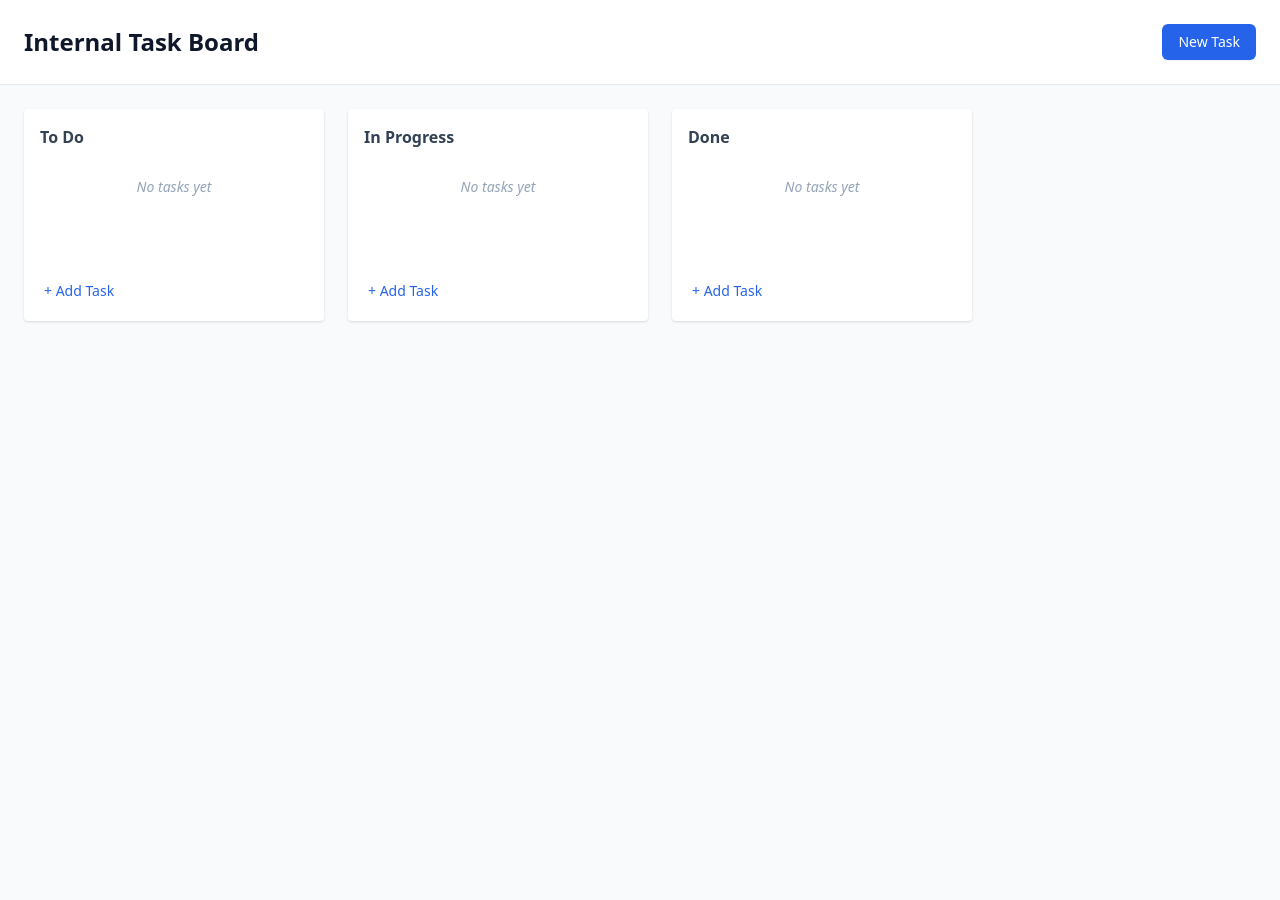
Test: App - task CRUD and keyboard shortcut › creates a new task and persists to localStorage
Click the button "New Task" at x=1209, y=42, box top-left (1162, 24), bottom-right (1256, 60)
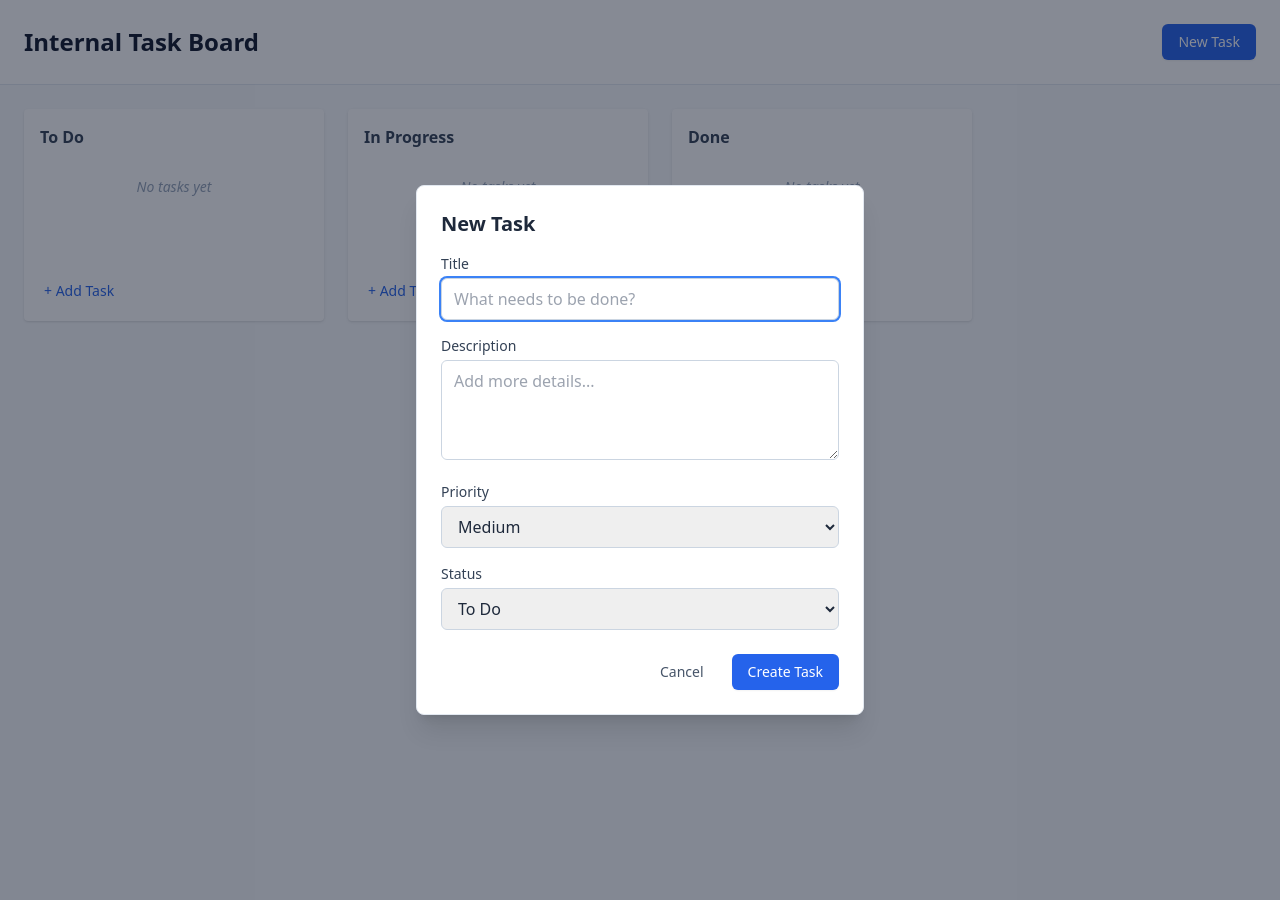
Type "Integration Test Task" into the field labelled "Title" at x=640, y=299, box top-left (441, 278), bottom-right (839, 320)
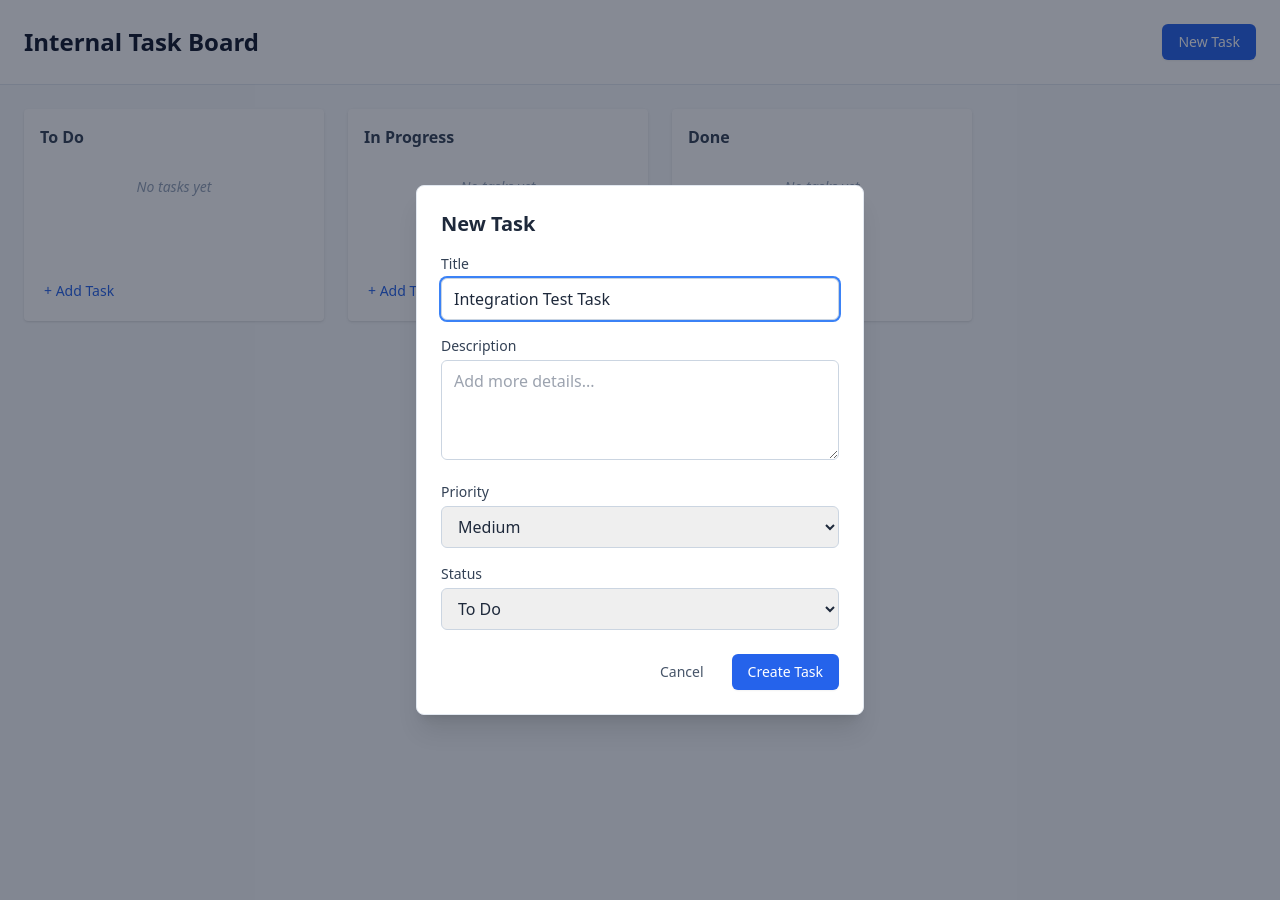
Type "Created by test" into the text box labelled "Description" at x=640, y=410, box top-left (441, 360), bottom-right (839, 460)
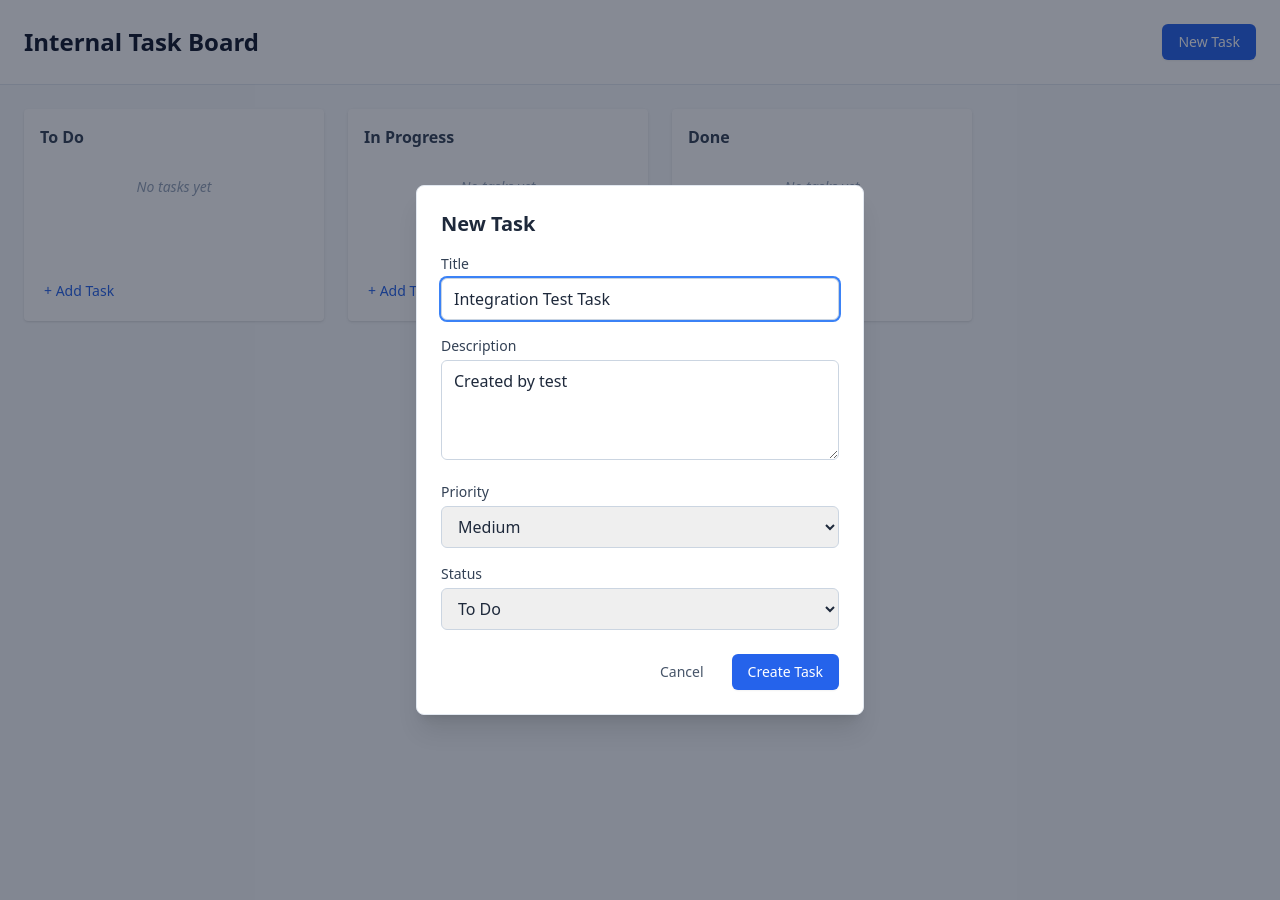
Click the button "Create Task" at x=785, y=672, box top-left (732, 654), bottom-right (839, 690)
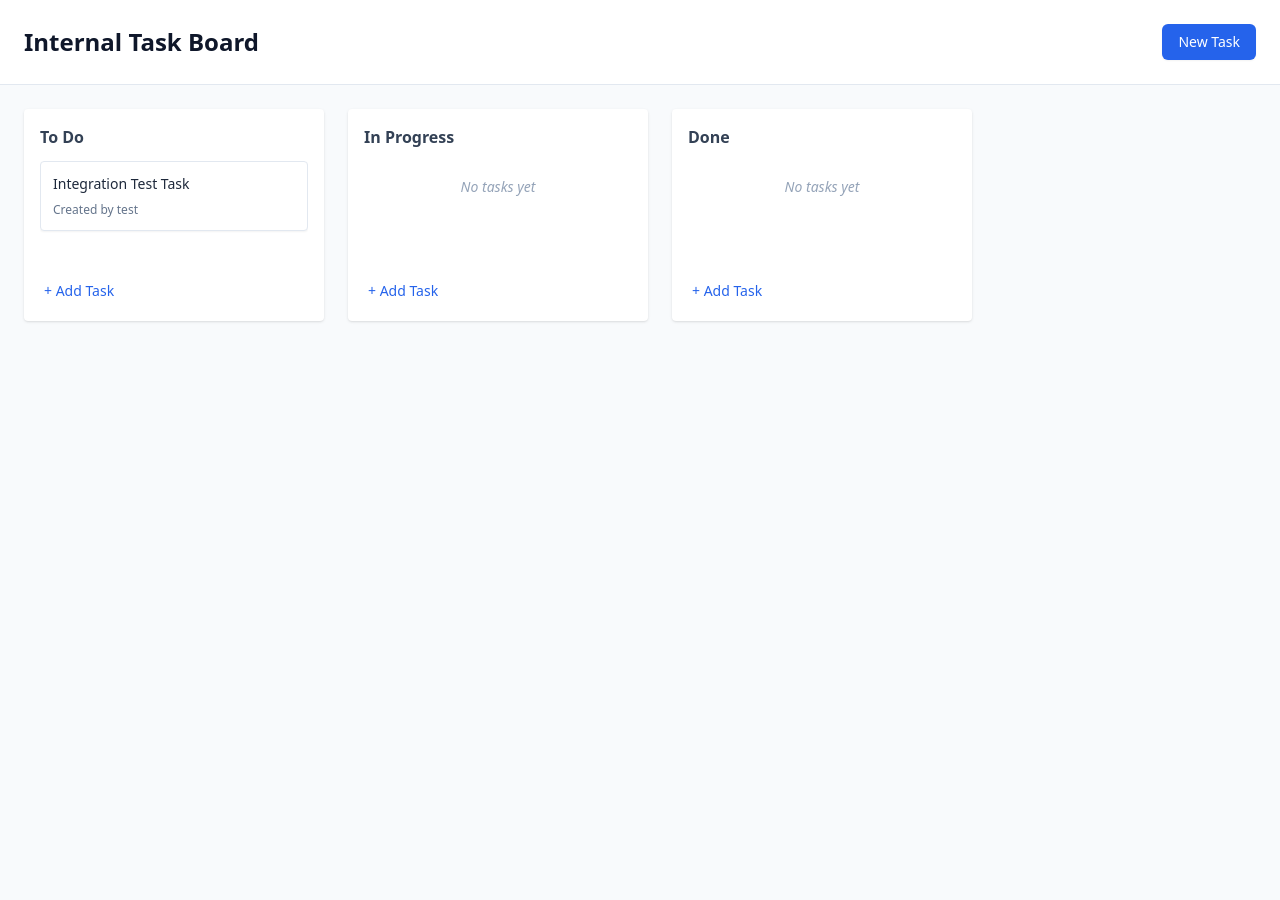
Expected: the heading "Integration Test Task" is shown, top-left (53, 174), bottom-right (190, 194)
Expected: the text "Created by test" is shown, top-left (53, 201), bottom-right (138, 218)
